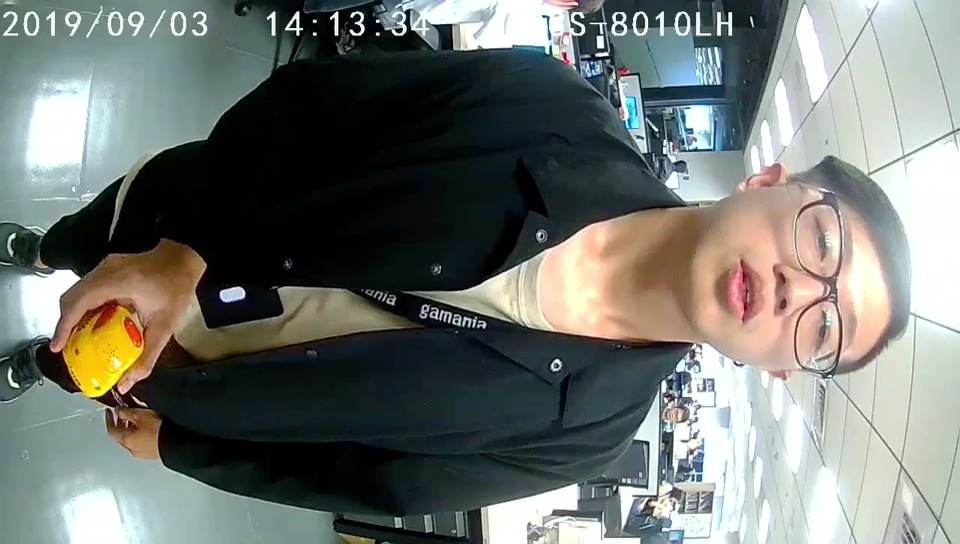car: (61, 302, 144, 395)
